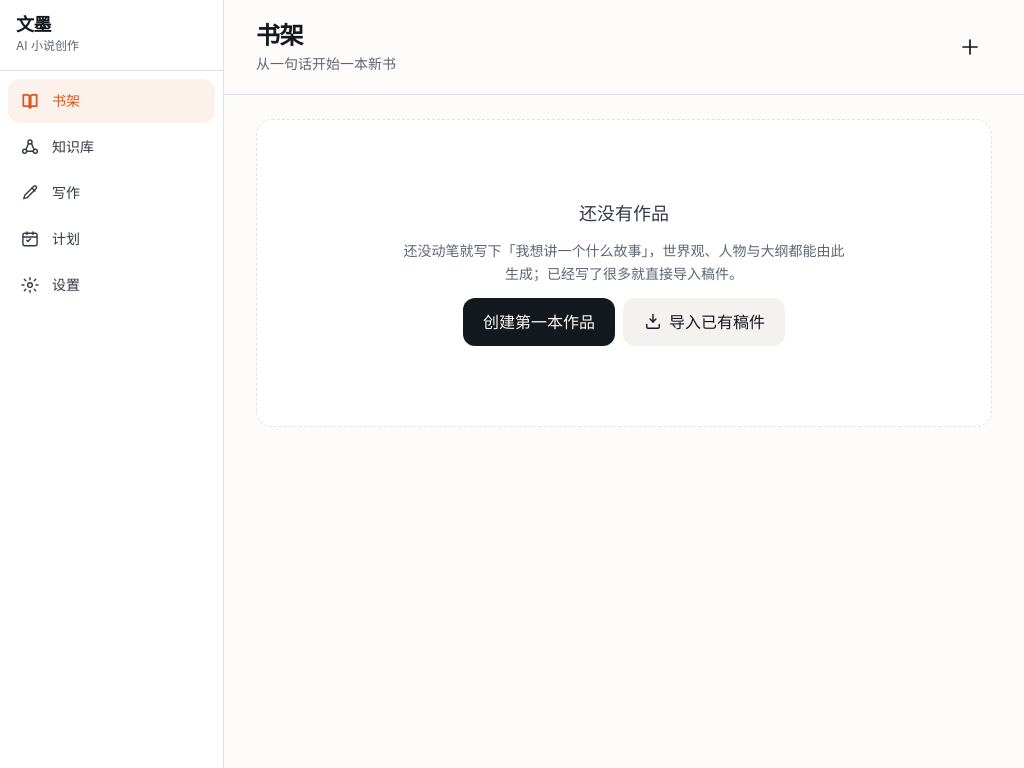
AppShell › 点击「计划」切换到对应页面
Click the link "计划": (50, 239) [20,229,80,249]
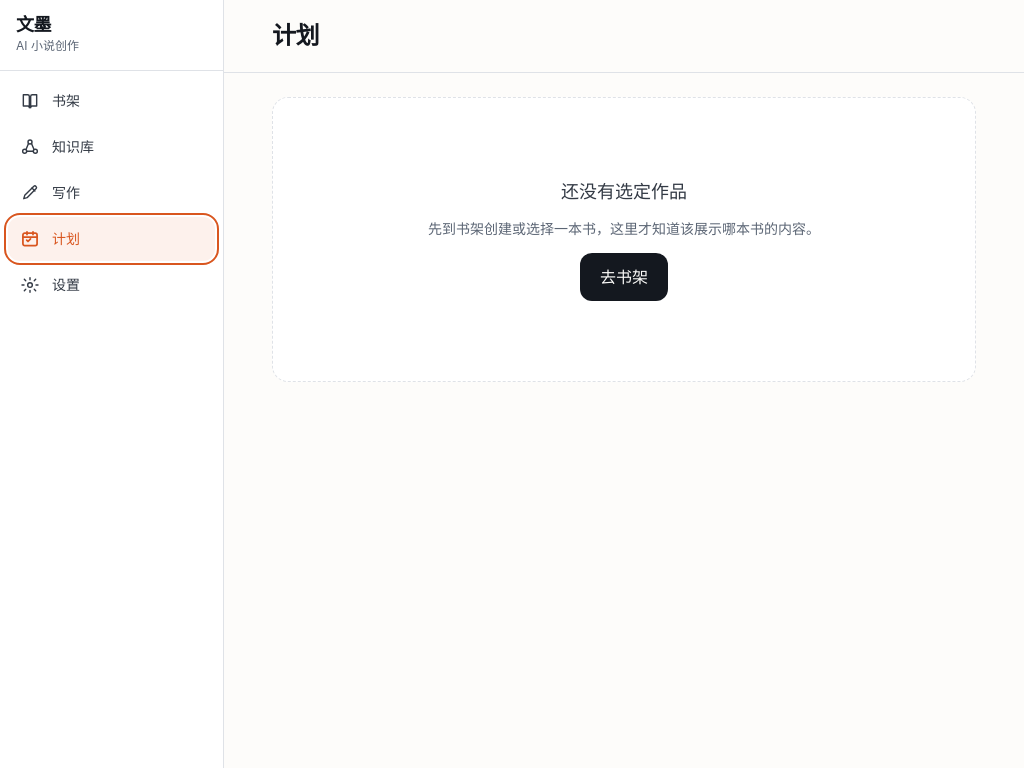
expect the heading "计划" is shown: met, box [272,20,319,52]
